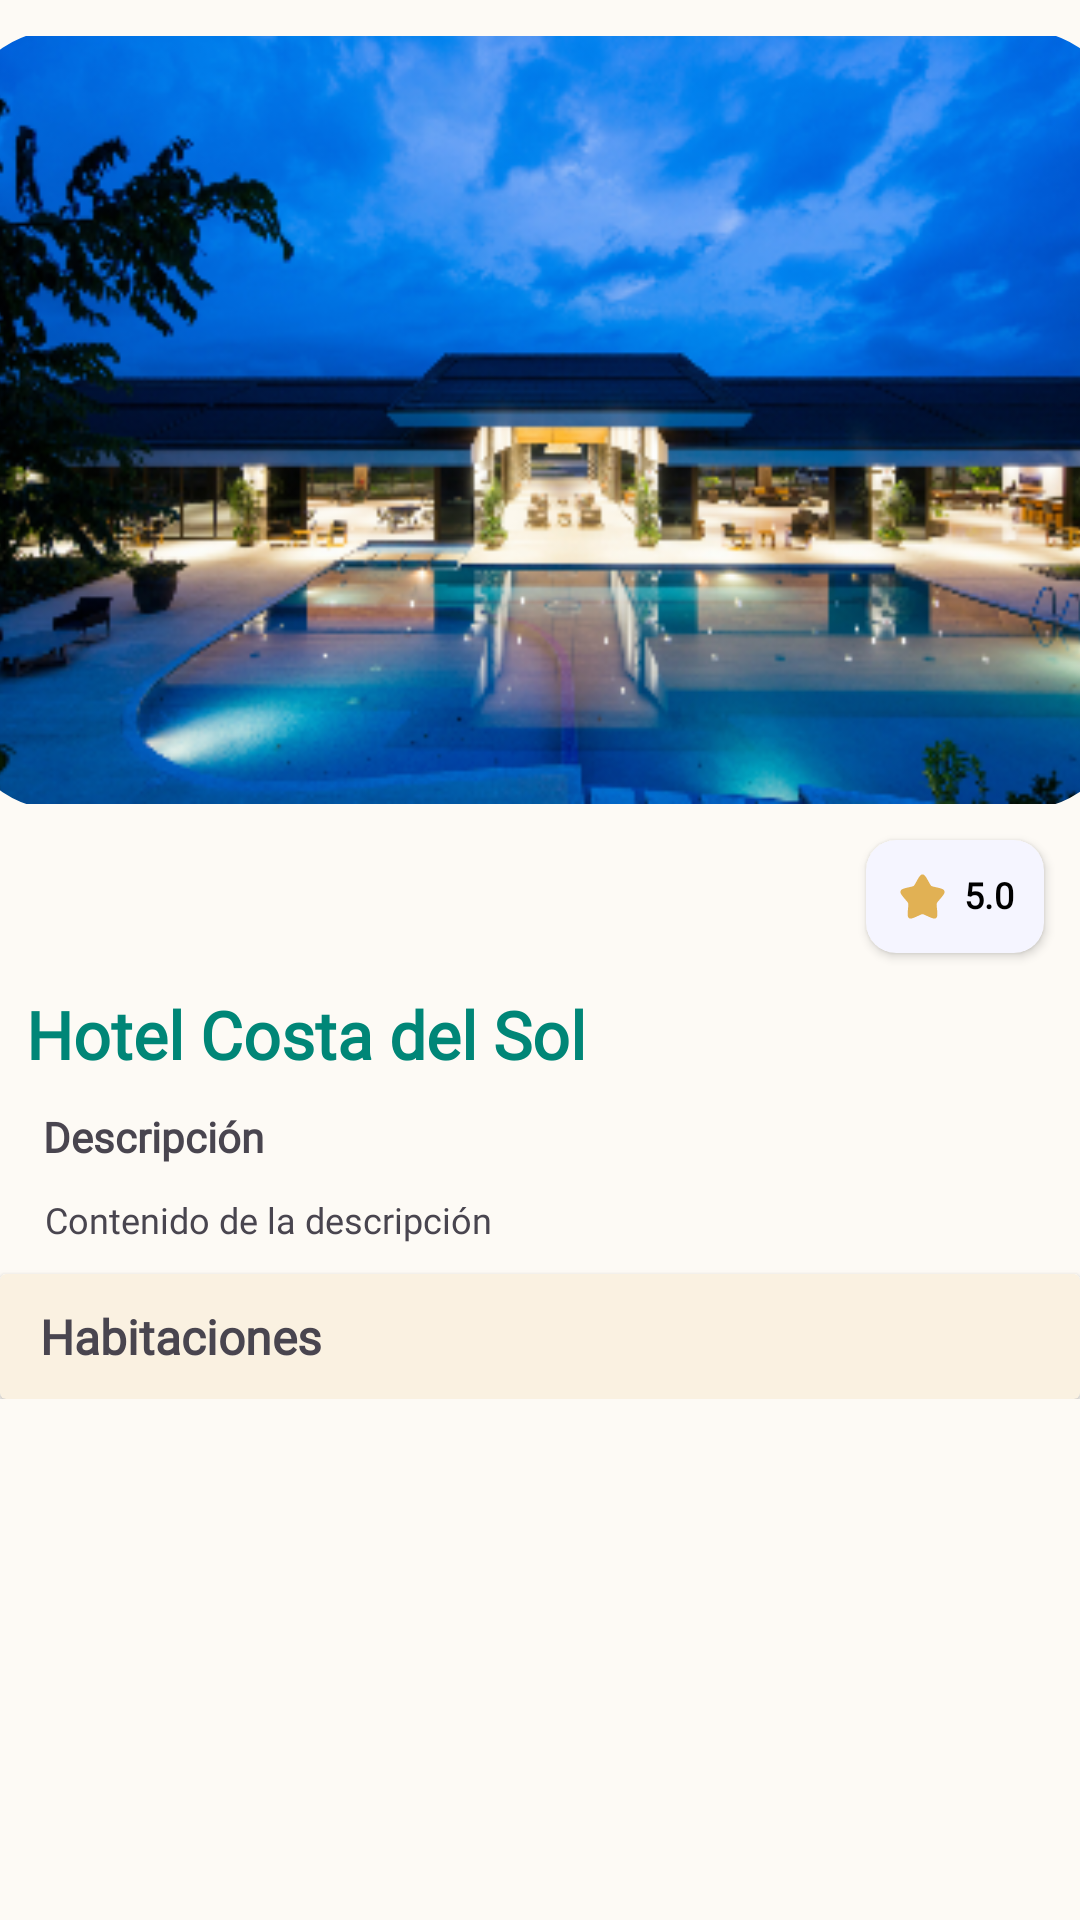

Locate icon controls on the screen. Image size 1080 x 1920, boxes as (x1, y1, x2, y2).
estrella llena: (900, 874, 945, 919)
